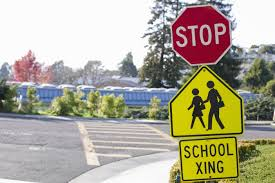slow: (169, 67, 245, 136)
stop: (171, 2, 233, 66)
